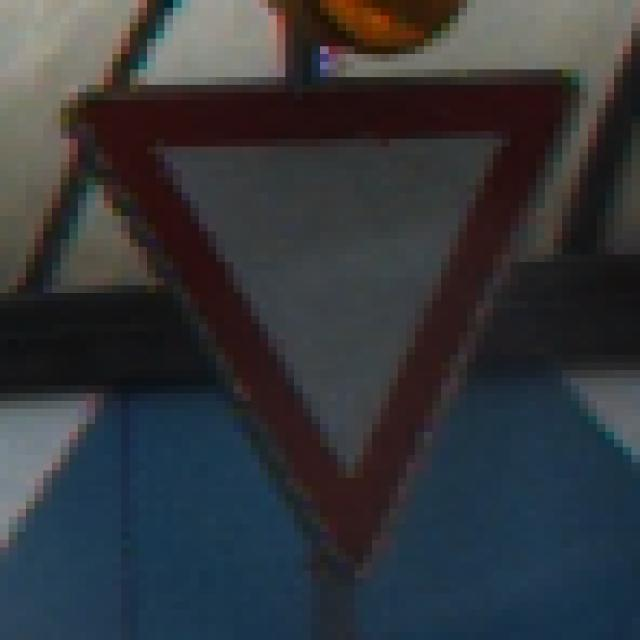Give Way: (62, 55, 589, 587)
